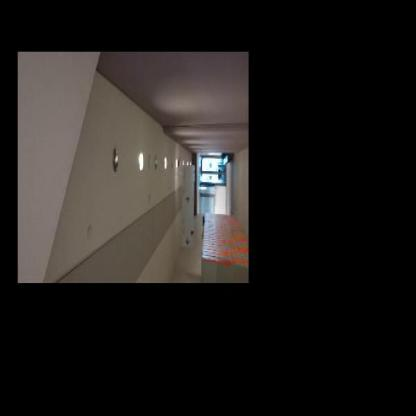light_off: (105, 143, 124, 176), (151, 150, 159, 174)
